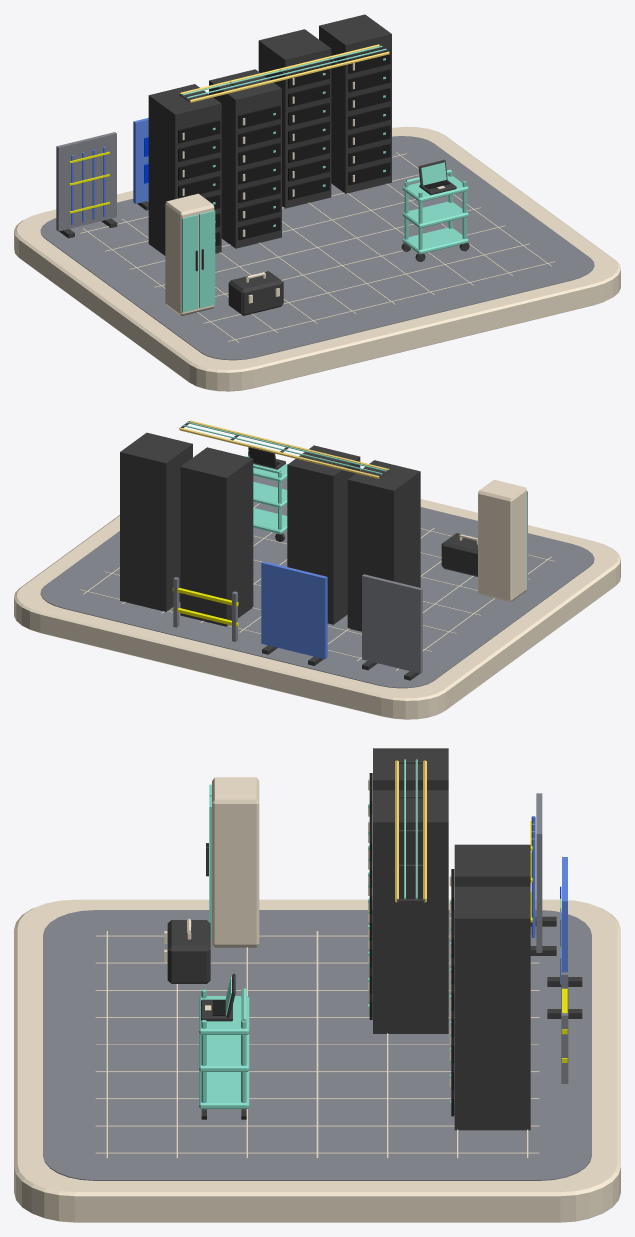
3 views of the same model, one above another, from view 1: azimuth 30°, elevation 25°; view 2: azimuth 150°, elevation 25°; view 3: azimuth 270°, elevation 25° (orthographic). The views are drawn at different scales.
Visible parts, largest first — view 1: COM-02 Floor Surface, COM-01 Rounded Base Direct, Server case, Server case.003, Server case.001, Server case.002, Panel, Equipment case, Case, Door, Door.001, Panel.001 (+28 smaller); view 2: COM-02 Floor Surface, COM-01 Rounded Base Direct, Server case.002, Server case.003, Server case, Server case.001, Panel.001, Equipment case, Panel, Case, Cable rail.001, Tray (+4 smaller); view 3: COM-02 Floor Surface, COM-01 Rounded Base Direct, Server case.003, Server case.001, Equipment case, Server case.002, Server case, Case, Tray.001, Tray, Panel, Tray.002 (+4 smaller).
Boxes of the visible parts, x1,y1,x2,y2 form: COM-02 Floor Surface: (40,136,594,360); COM-01 Rounded Base Direct: (14,126,620,391); Server case: (148,84,221,255); Server case.003: (319,14,391,193); Server case.001: (209,69,281,248); Server case.002: (258,29,331,208); Panel: (56,132,116,231); Equipment case: (165,193,214,316); Case: (228,271,283,315); Door: (182,214,198,312); Door.001: (199,210,215,308); Panel.001: (133,118,148,203); COM-02 Floor Surface: (40,476,594,688); COM-01 Rounded Base Direct: (14,456,620,719); Server case.002: (180,447,253,626); Server case.003: (120,432,192,611); Server case: (347,460,420,631); Server case.001: (287,445,360,624); Panel.001: (261,561,327,659); Equipment case: (478,479,526,602); Panel: (362,574,422,673); Case: (441,533,477,576); Cable rail.001: (179,427,379,478); Tray: (253,508,287,534); COM-02 Floor Surface: (43,910,591,1180); COM-01 Rounded Base Direct: (14,899,620,1222); Server case.003: (454,886,530,1130); Server case.001: (373,790,448,1033); Equipment case: (212,777,259,947); Server case.002: (454,844,530,886); Server case: (373,748,448,790); Case: (167,920,210,983); Tray.001: (199,1034,249,1071); Tray: (199,1071,249,1108); Panel: (536,793,542,952); Tray.002: (199,996,249,1034).
Bounding box in the file's own units: 6 × 2.35 × 5.2.
Materials: 1 (1 with a texture image).
